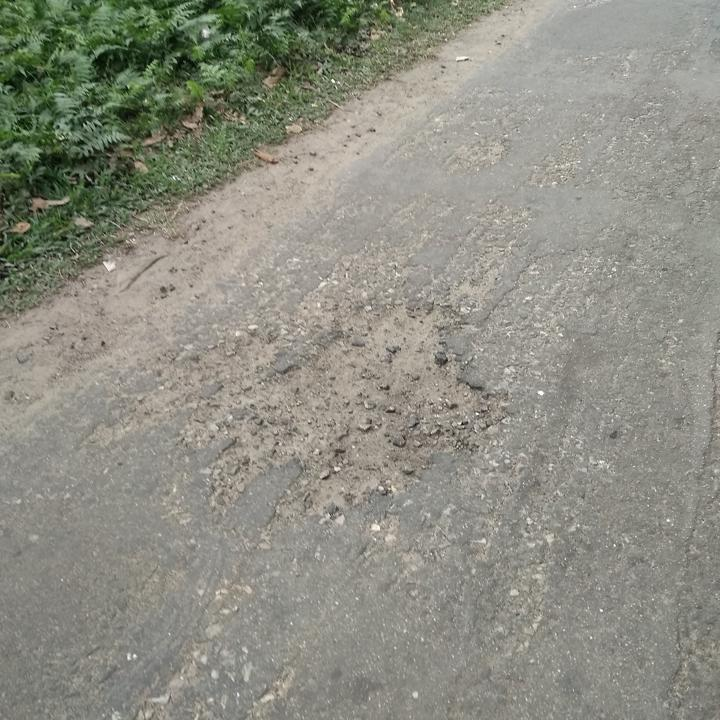pothole: (245, 296, 498, 506)
